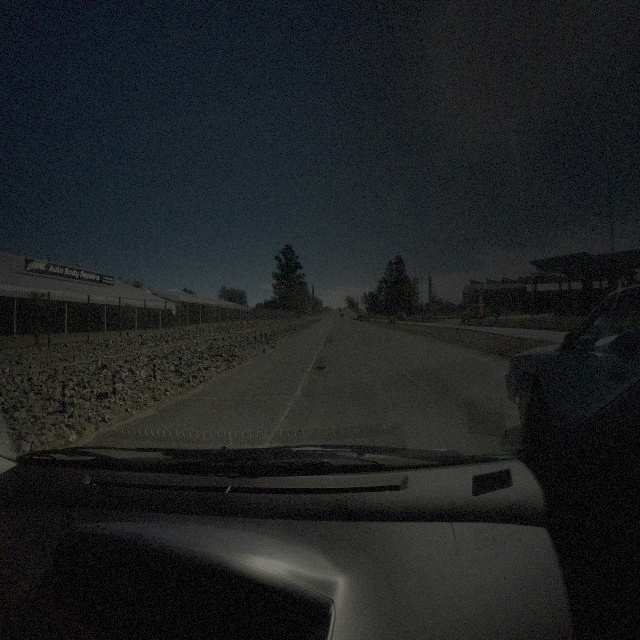pothole: (309, 364, 325, 374), (324, 340, 333, 344)
